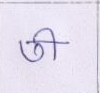i_matra: (43, 27, 62, 60)
